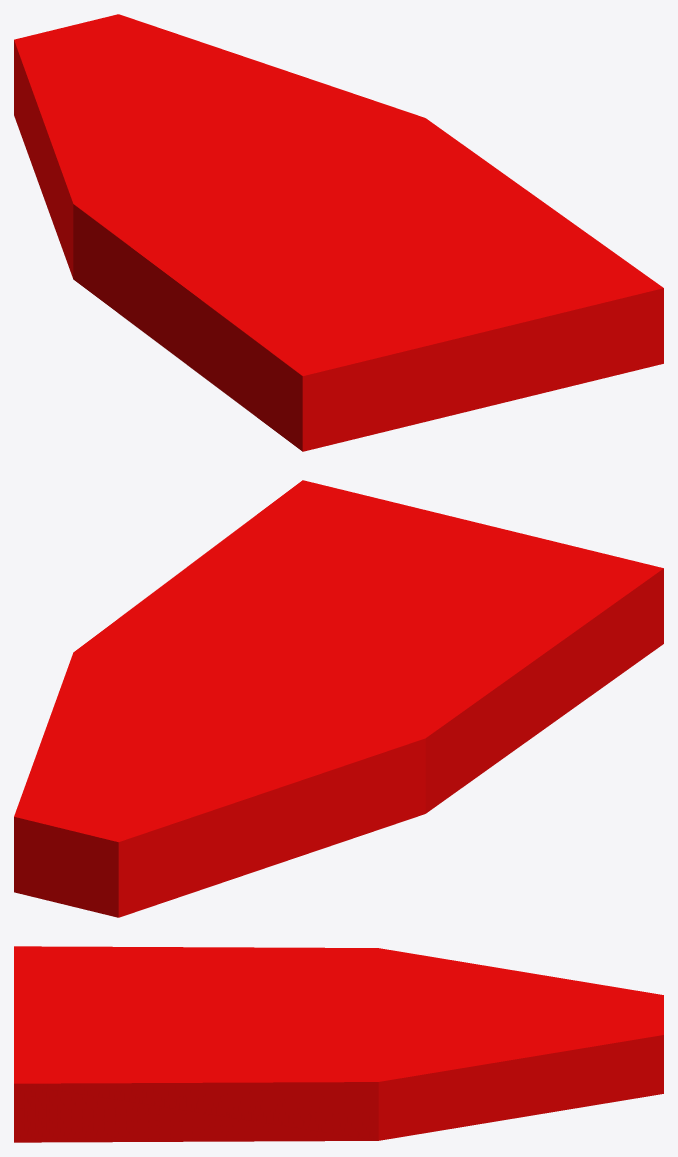
The model's file is vague_controller.glb.
3 renders of one model, top to bottom at view 1: azimuth 30°, elevation 25°; view 2: azimuth 150°, elevation 25°; view 3: azimuth 270°, elevation 25°, orthographic. The views are drawn at different scales.
Parts seen in each view (by area): view 1: Cube; view 2: Cube; view 3: Cube.
Boxes of the visible parts, x1=… form: Cube: x1=14, y1=14, x2=663, y2=451; Cube: x1=14, y1=480, x2=663, y2=917; Cube: x1=14, y1=946, x2=663, y2=1142.
Size of the model in its own units: 1 by 0.2 by 2.
Materials: 1 (1 with a texture image).
